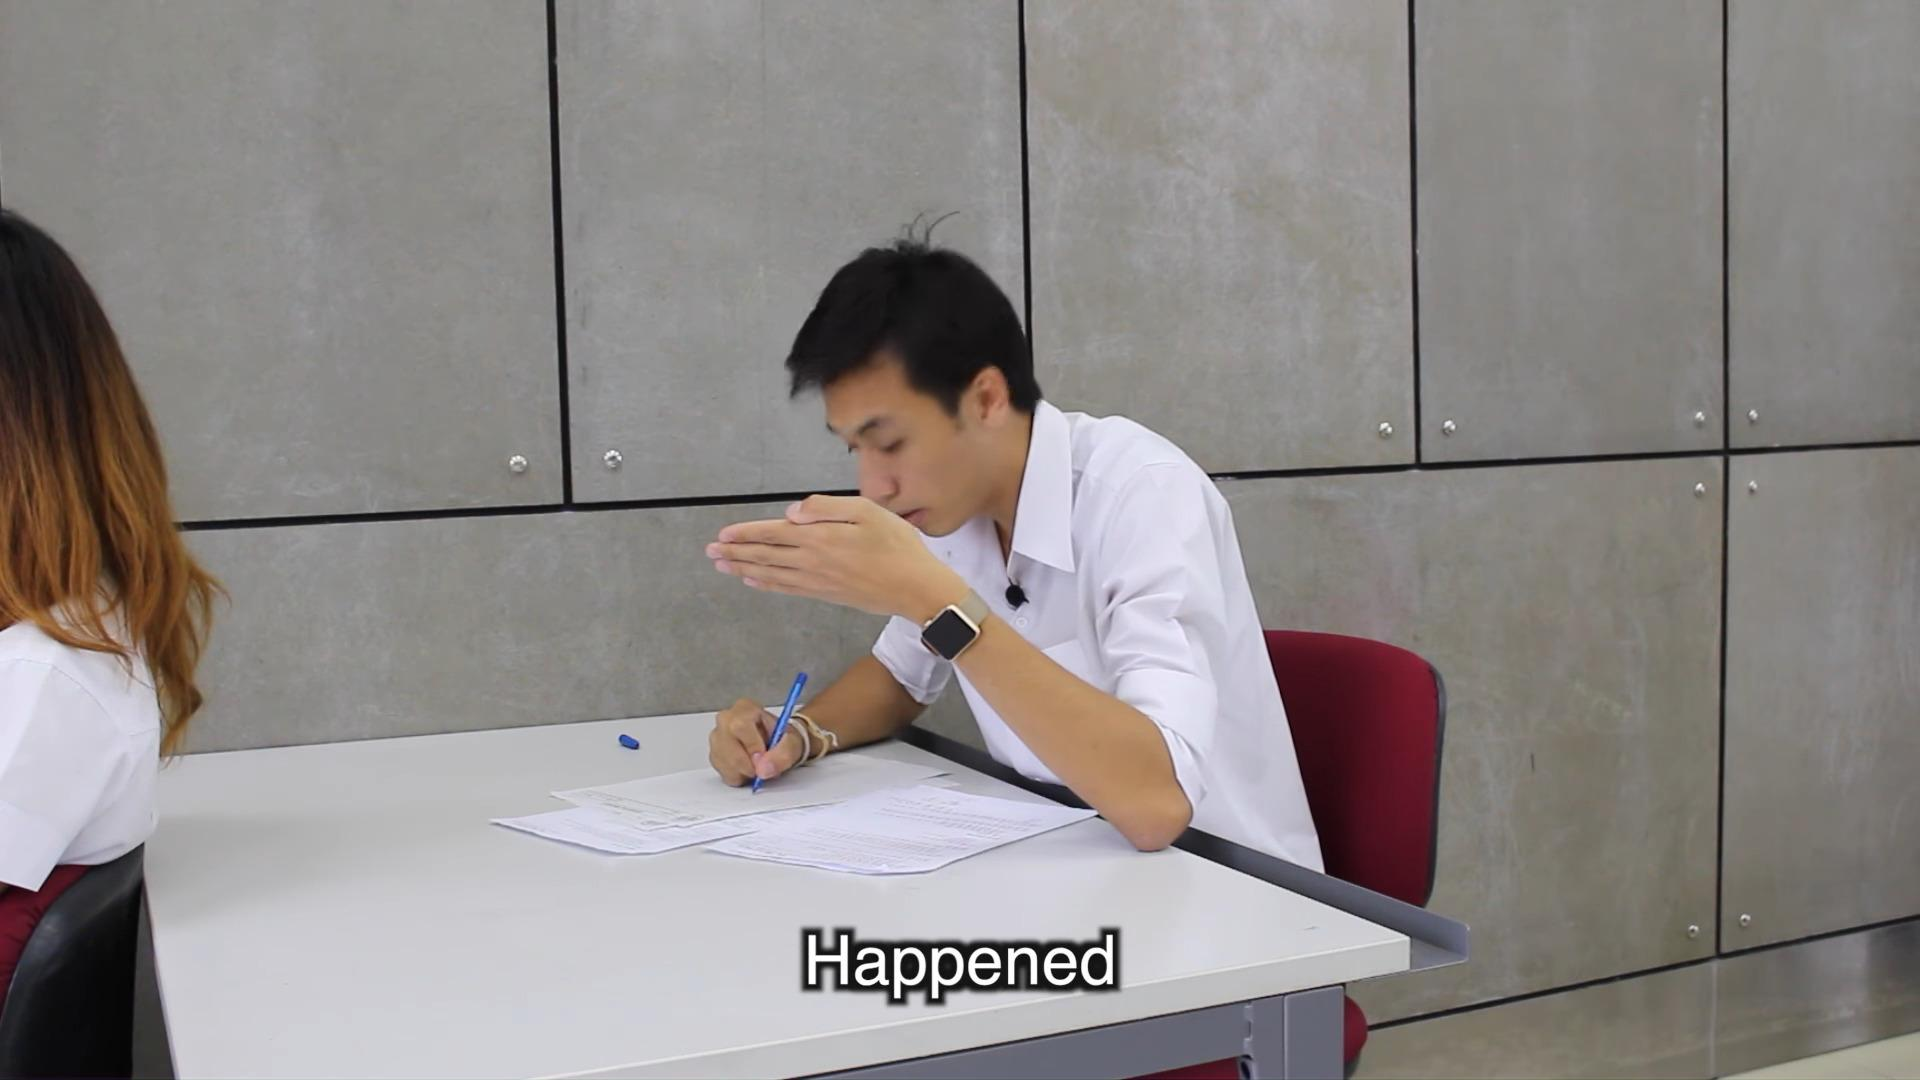cheating: (452, 198, 1370, 907)
